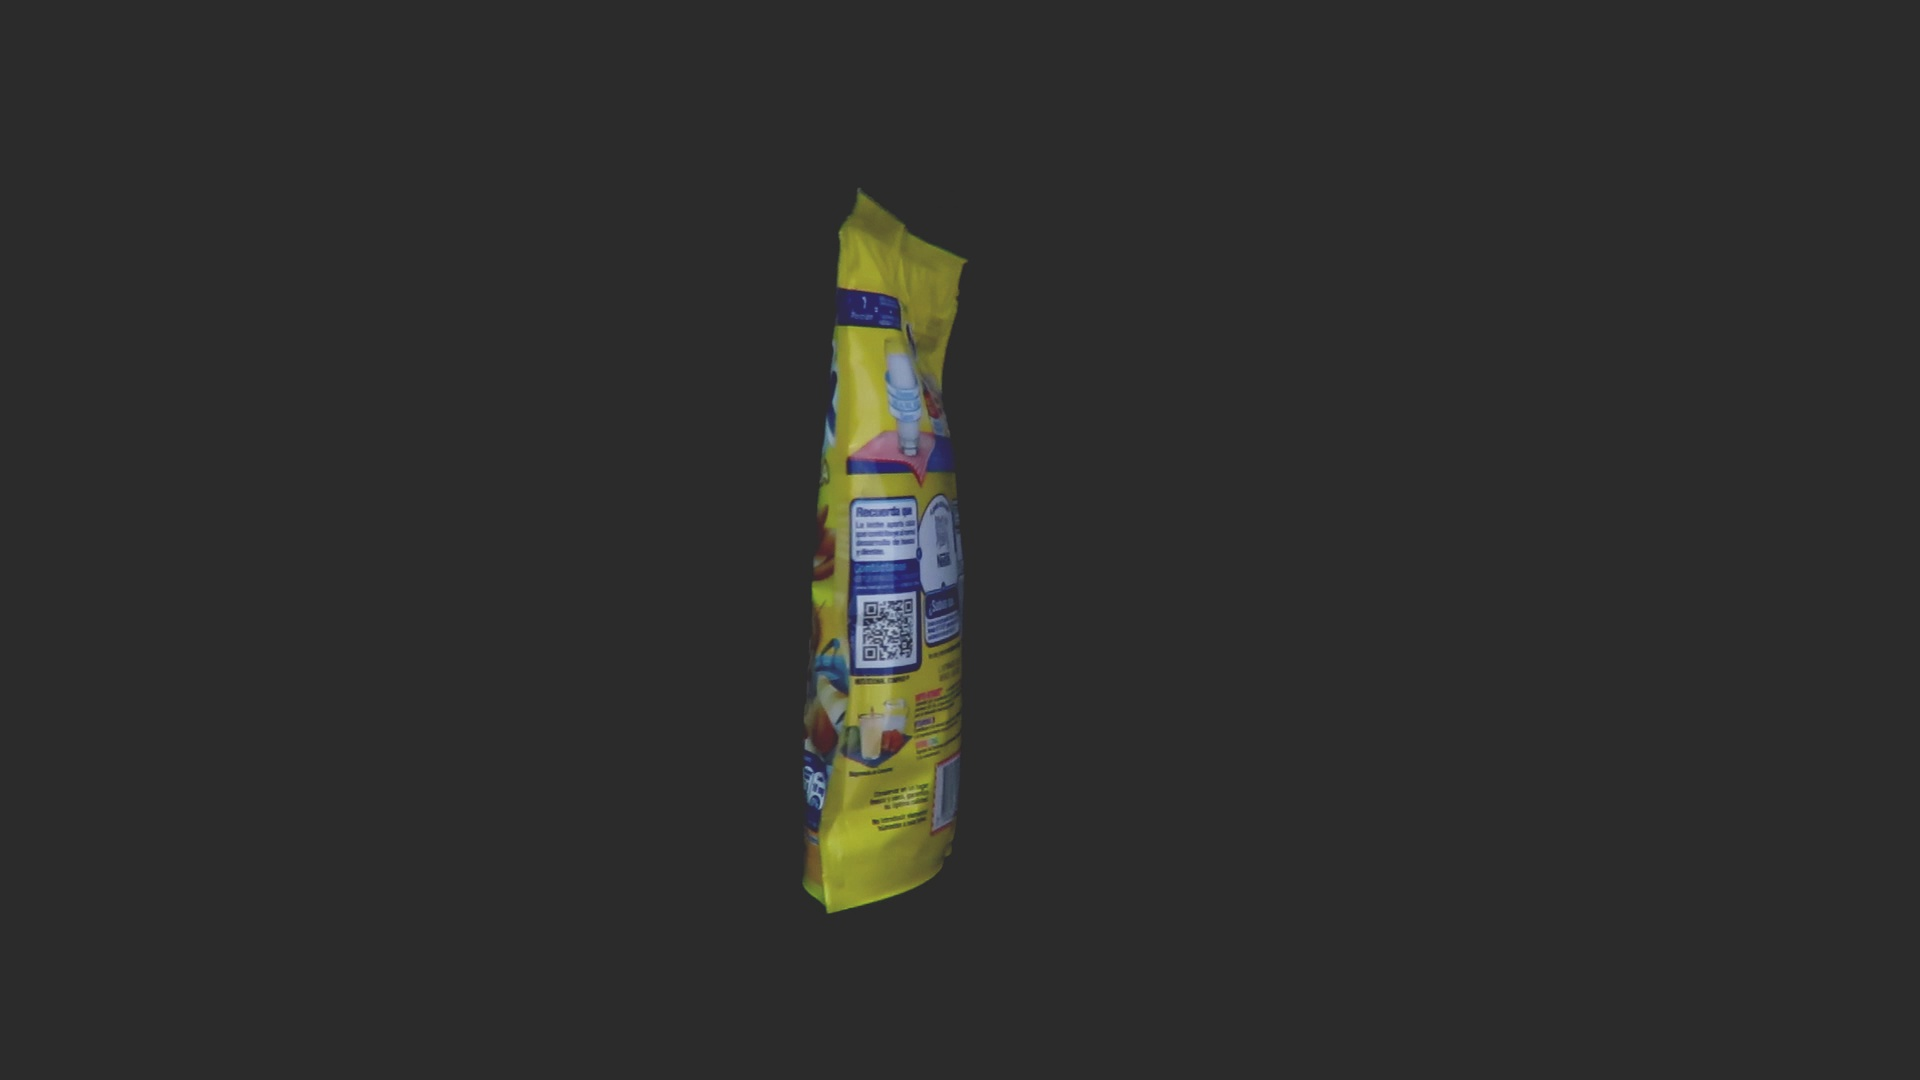COL0170306DYP20000: (796, 182, 975, 920)
